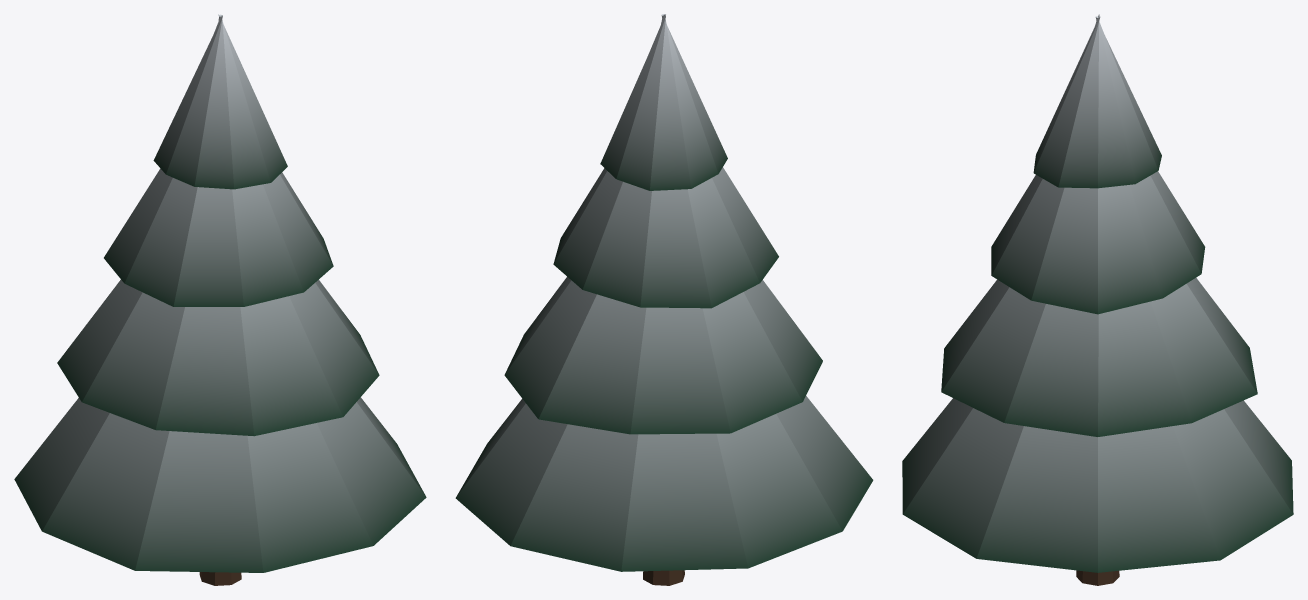
The model's file is tree_snowpine.glb.
3 renders of one model, left to right at view 1: azimuth 30°, elevation 25°; view 2: azimuth 150°, elevation 25°; view 3: azimuth 270°, elevation 25°, orthographic.
Parts seen in each view (by area): view 1: tier, tier.001, tier.002, tier.003; view 2: tier, tier.001, tier.002, tier.003, trunk; view 3: tier, tier.001, tier.002, tier.003, trunk.
Part boxes in pixels (box(x1,y1,x2,y2)): tier: box(14, 397, 426, 572); tier.001: box(57, 279, 379, 436); tier.002: box(104, 168, 333, 306); tier.003: box(153, 14, 287, 189); tier: box(455, 396, 873, 571); tier.001: box(504, 276, 822, 434); tier.002: box(553, 167, 778, 308); tier.003: box(600, 14, 727, 190); trunk: box(643, 570, 684, 585); tier: box(902, 398, 1293, 572); tier.001: box(941, 278, 1257, 436); tier.002: box(991, 171, 1205, 314); tier.003: box(1033, 14, 1161, 188); trunk: box(1076, 570, 1119, 585).
Bounding box in the file's own units: 1.88 × 2.85 × 1.8.
